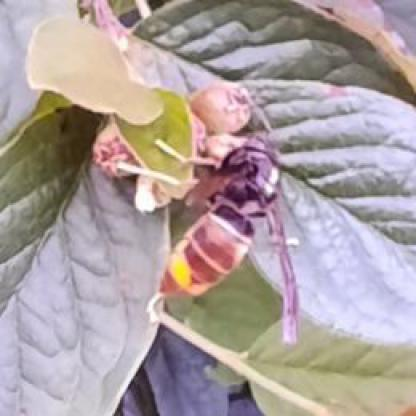Asian Hornet: (140, 113, 302, 346)
